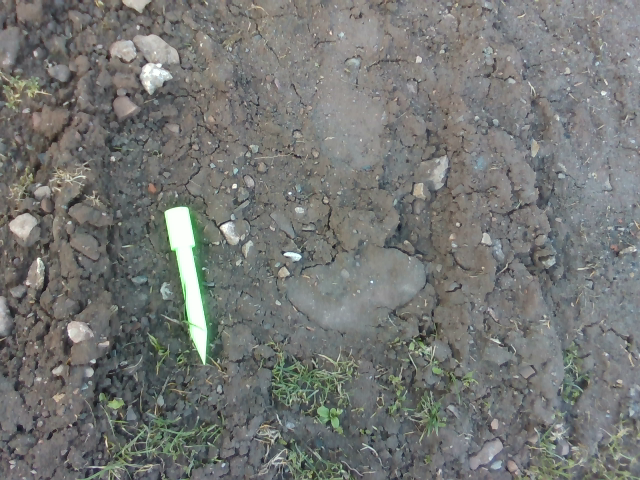Probe: (155, 199, 216, 367)
